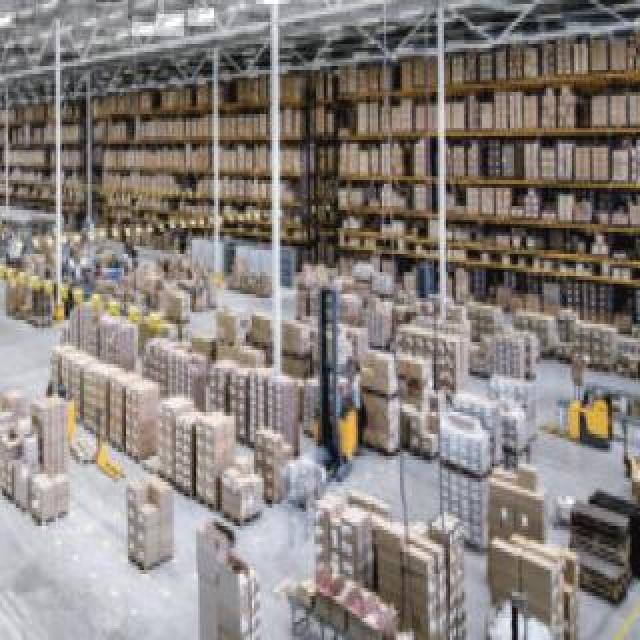fluorescent tube: (92, 0, 122, 10)
